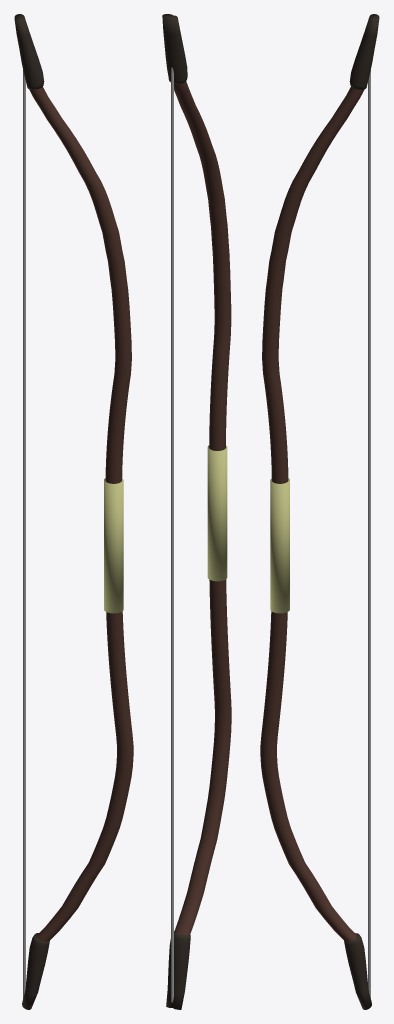
The model's file is Long_bow.fbx.
3 renders of one model, left to right at view 1: azimuth 90°, elevation 25°; view 2: azimuth 150°, elevation 25°; view 3: azimuth 270°, elevation 25°, orthographic.
Parts seen in each view (by area): view 1: body, Bow String, handle, first, second; view 2: body, Bow String, handle, first, second; view 3: body, Bow String, handle, first, second.
Boxes of the visible parts, <box> form: body: <box>29,87,133,941</box>; Bow String: <box>23,70,25,998</box>; handle: <box>104,478,123,613</box>; first: <box>14,14,44,89</box>; second: <box>22,933,49,1009</box>; body: <box>174,81,231,935</box>; Bow String: <box>171,67,173,1002</box>; handle: <box>207,445,227,581</box>; first: <box>162,14,187,83</box>; second: <box>166,931,190,1009</box>; body: <box>260,87,364,941</box>; Bow String: <box>368,70,370,998</box>; handle: <box>270,478,289,613</box>; first: <box>349,14,379,89</box>; second: <box>344,933,371,1009</box>.
Size of the model in its own units: 2.86 by 150 by 16.4.
